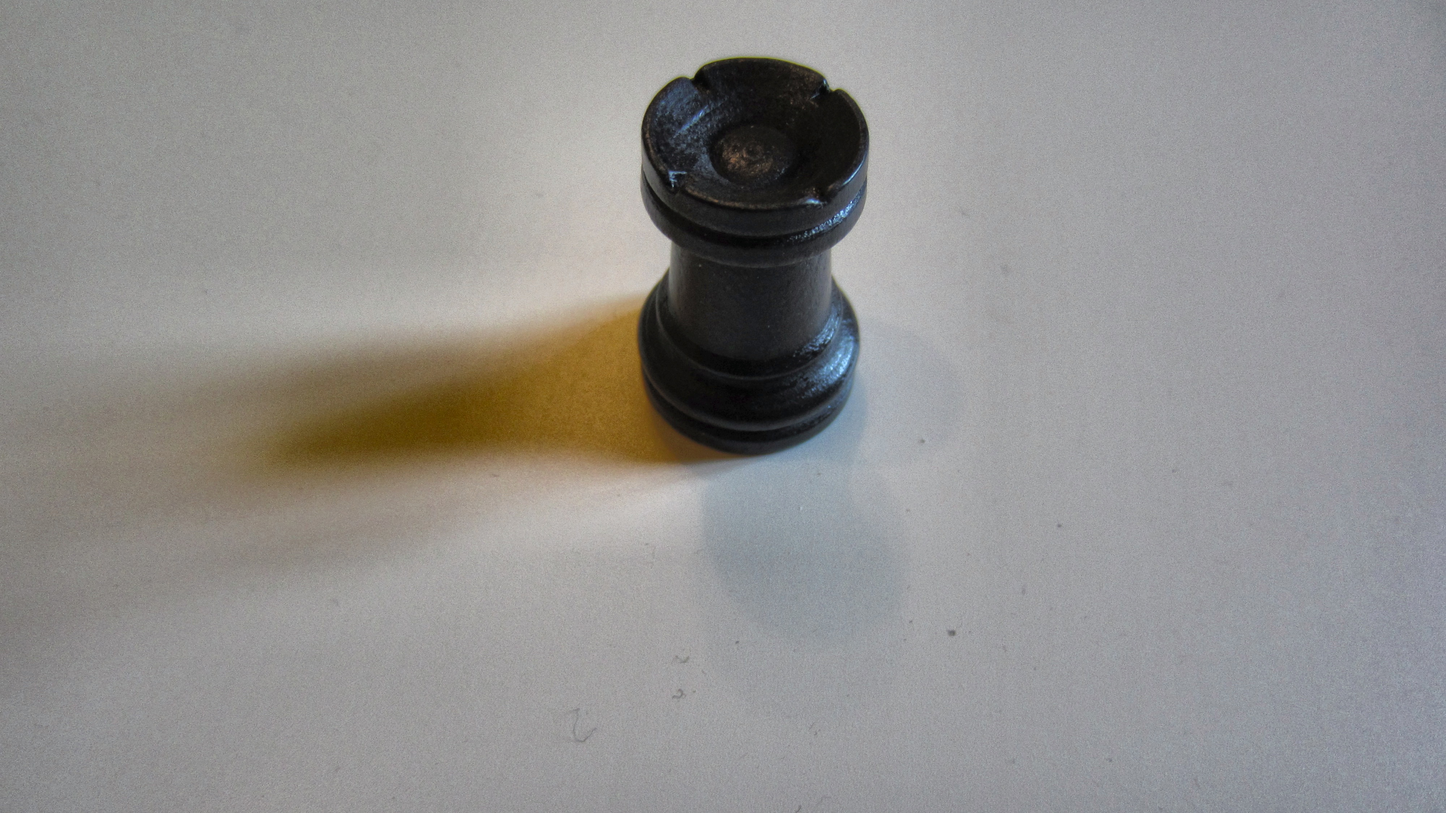black-rook: (628, 53, 877, 459)
